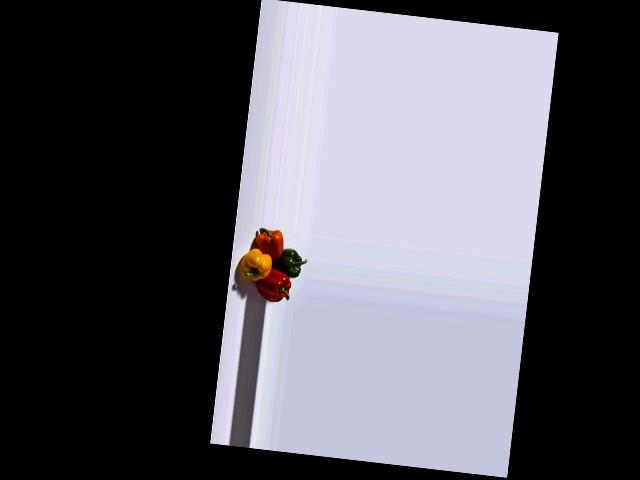bell_pepper: (254, 267, 296, 305)
